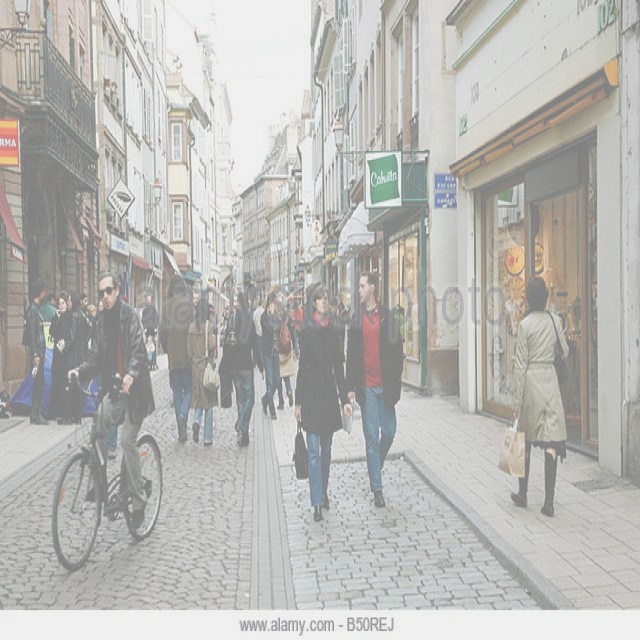pessoa: (65, 269, 157, 532), (508, 270, 572, 518), (291, 286, 354, 524), (342, 268, 404, 508), (223, 288, 266, 448), (158, 274, 196, 444), (184, 294, 221, 448), (55, 288, 85, 428), (25, 275, 50, 426), (259, 290, 283, 422), (47, 290, 70, 426), (277, 301, 299, 408), (75, 291, 93, 365), (252, 296, 268, 376), (408, 290, 422, 353), (37, 290, 60, 322), (330, 292, 353, 324), (208, 302, 219, 361), (291, 300, 302, 359), (143, 293, 157, 337), (104, 423, 119, 462), (558, 299, 573, 337), (299, 282, 313, 322), (506, 290, 517, 332), (143, 333, 156, 362), (220, 305, 229, 344), (309, 220, 321, 246), (86, 302, 98, 326), (246, 282, 258, 306), (190, 288, 198, 316), (274, 282, 284, 300), (96, 298, 104, 312), (285, 302, 292, 313), (314, 280, 323, 288), (207, 302, 212, 314)
